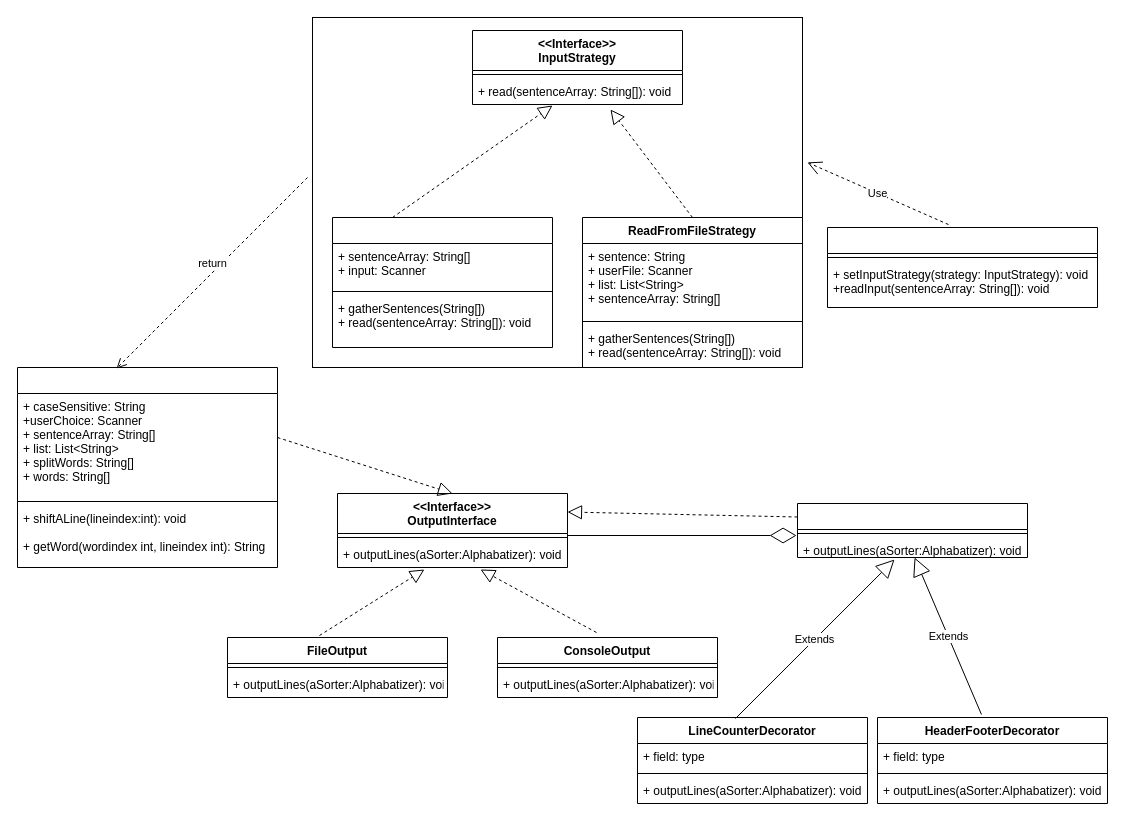
The diagram is 1125 pixels wide and 824 high, and some of its shapes have lost their labels. Here are the shapes that lost their labels. From the top down, the box of each, then its label:
(332, 216, 552, 348): ReadFromConsoleStrategy
(826, 226, 1098, 308): InputContext
(16, 366, 278, 568): KWICDesign (Main)
(796, 502, 1028, 558): OutputDecorator
